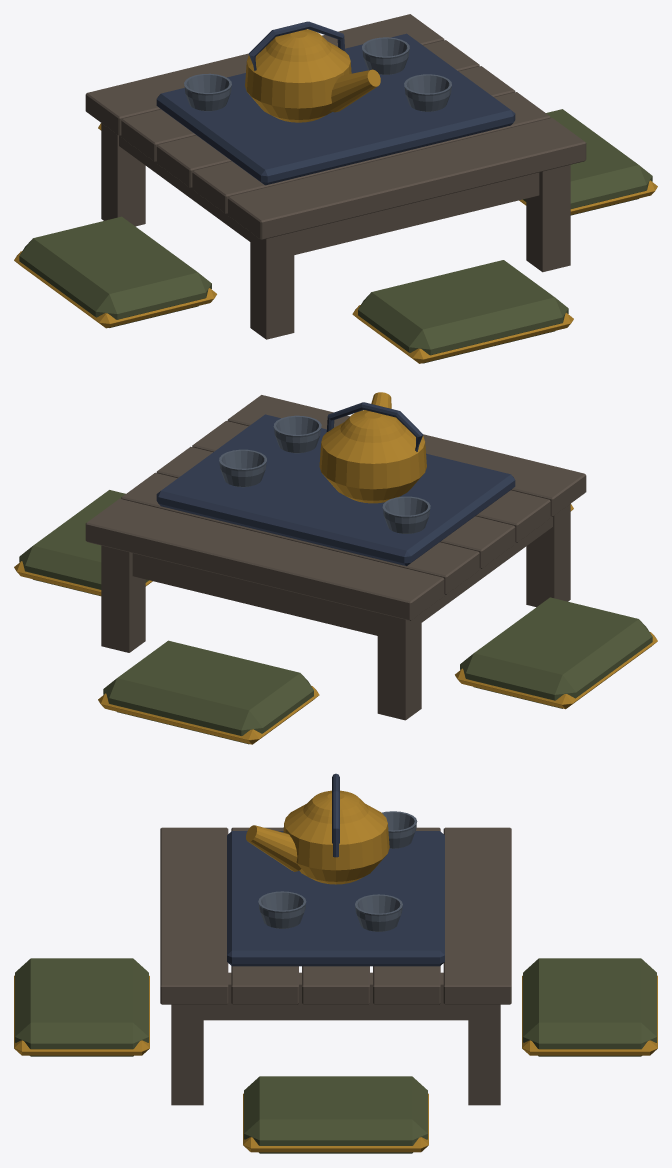
Rendered from bw_targ_tea_table.glb.
3 views of the same model, one above another, from view 1: azimuth 30°, elevation 25°; view 2: azimuth 150°, elevation 25°; view 3: azimuth 270°, elevation 25° (orthographic).
Parts seen in each view (by area): view 1: apron.001, apron.003, apron.004, apron.002, apron; view 2: apron.001, apron.003, apron.004, apron.002, apron; view 3: apron.001, apron.003, apron.004, apron.002, apron.
Boxes of the visible parts, <box> form: apron.001: <box>85,14,586,339</box>; apron.003: <box>19,109,652,363</box>; apron.004: <box>156,21,515,185</box>; apron.002: <box>14,29,657,363</box>; apron: <box>184,37,451,111</box>; apron.001: <box>85,395,586,720</box>; apron.003: <box>19,490,652,744</box>; apron.004: <box>156,402,515,566</box>; apron.002: <box>14,392,657,744</box>; apron: <box>219,415,430,533</box>; apron.001: <box>160,827,511,1105</box>; apron.003: <box>15,958,656,1153</box>; apron.004: <box>227,773,444,966</box>; apron.002: <box>14,790,657,1152</box>; apron: <box>258,811,417,931</box>.
Bounding box in the file's own units: 1.8 × 0.7 × 1.8.
